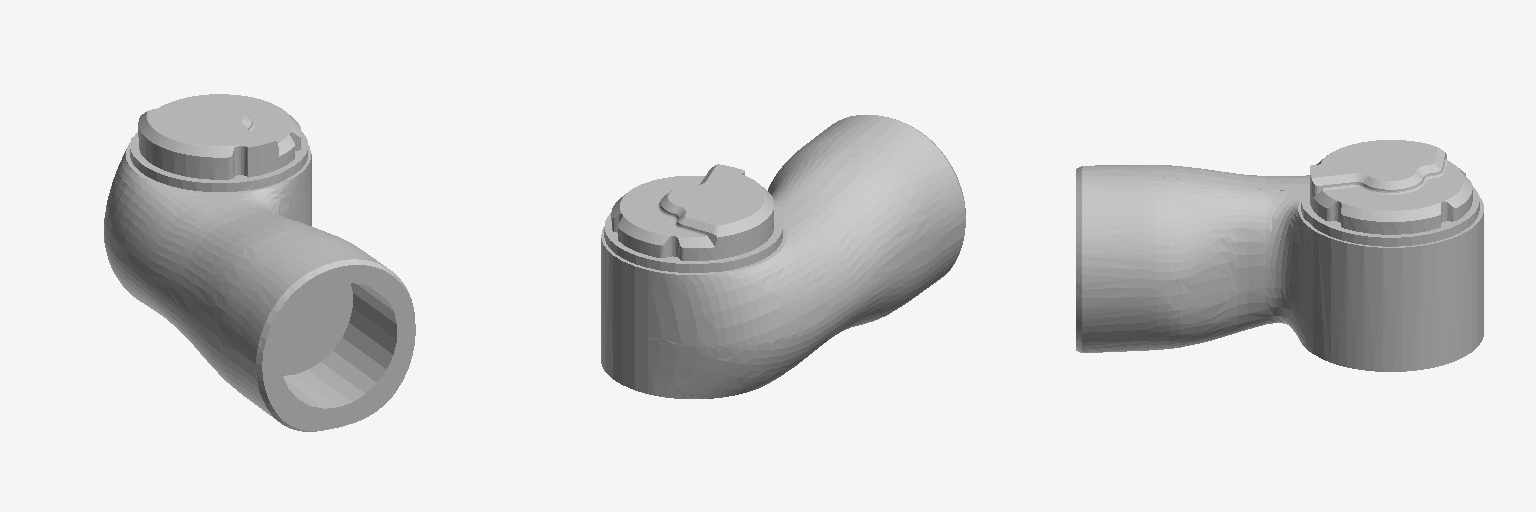
File: right_shoulder_yaw_link_collisions.obj
3 views of the same model, side by side, from view 1: azimuth 30°, elevation 25°; view 2: azimuth 150°, elevation 25°; view 3: azimuth 270°, elevation 25° (orthographic).
Bounding box in the file's own units: 0.0812 × 0.0745 × 0.1453.